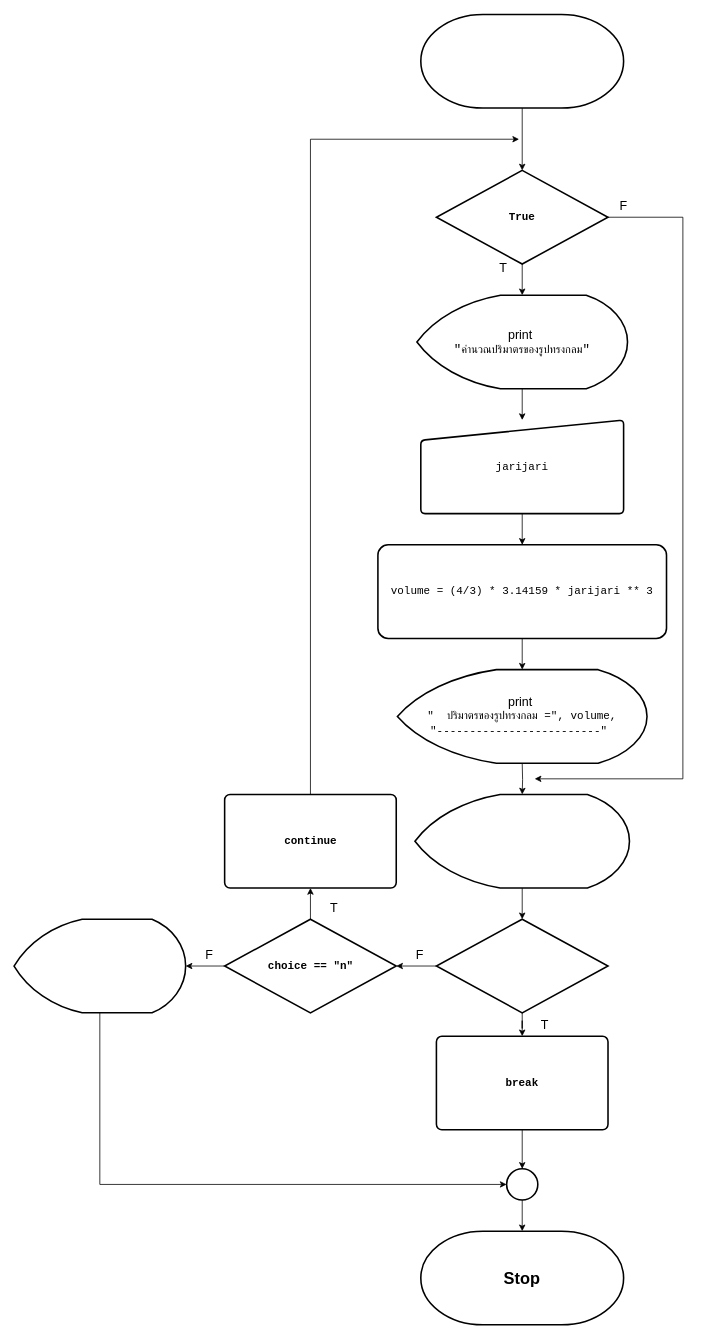
Image size: 703x1338. Some labels were removed from this diagram. The centre of each missing label's shape, as x and y in pixels:
choice == "y": point 521,965
print " ตัวเลือกไม่ถูกต้อง ": point 99,965
print " ต้องการคำนวณอีกครั้งหรือไม่ (y/n): ": point 522,840
Start: point 522,60
